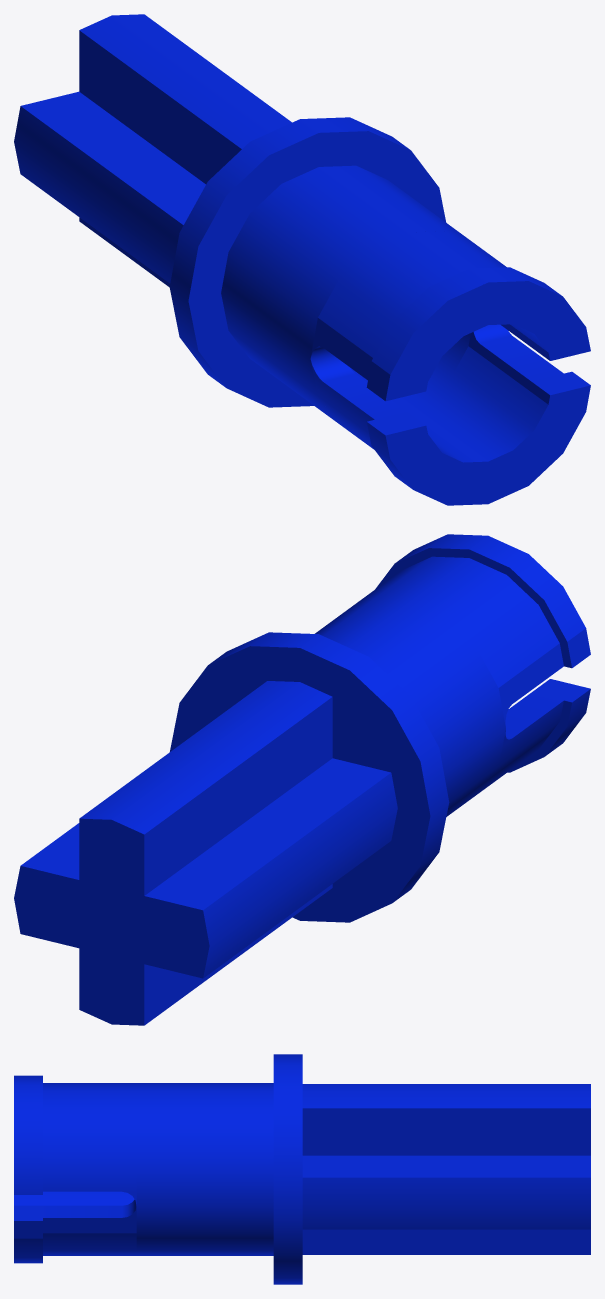
The picture shows the model from 3 angles, top to bottom: view 1: azimuth 30°, elevation 25°; view 2: azimuth 150°, elevation 25°; view 3: azimuth 270°, elevation 25°; orthographic projection. The views are drawn at different scales.
Visible parts, largest first — view 1: 3749.dat.001; view 2: 3749.dat.001; view 3: 3749.dat.001.
Boxes of the visible parts, x1,y1,x2,y2 form: 3749.dat.001: (14,14,590,505); 3749.dat.001: (14,534,590,1025); 3749.dat.001: (14,1054,590,1284).
Size of the model in its own units: 0.8718 by 0.8718 by 2.18.
